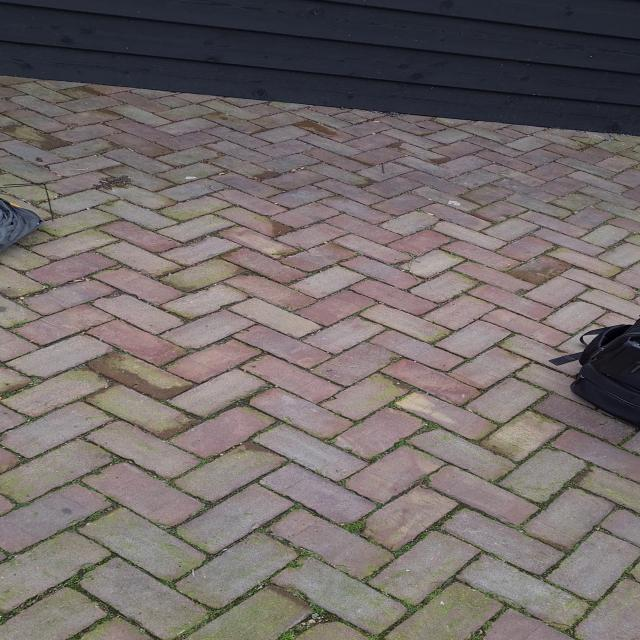backpack: (561, 314, 640, 436), (0, 201, 49, 255)
